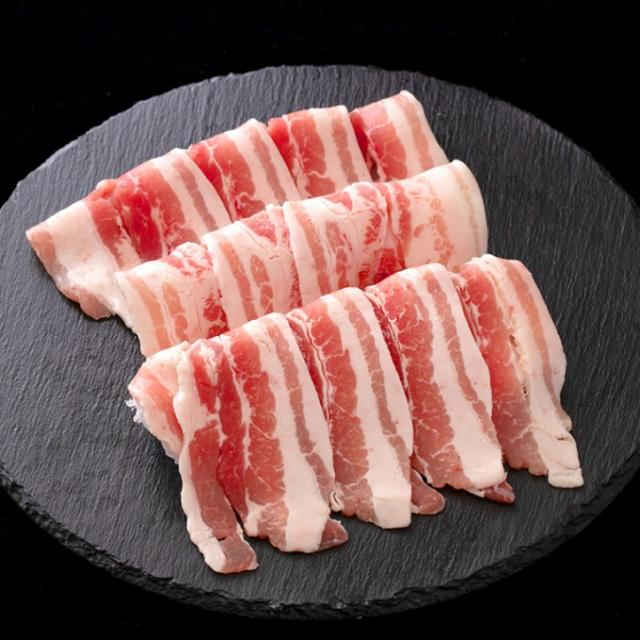NG raw pork,: (170, 307, 353, 579), (282, 283, 451, 532), (368, 258, 519, 518), (451, 246, 584, 496), (18, 181, 145, 329), (280, 176, 407, 309), (97, 143, 235, 264), (111, 238, 241, 363), (202, 199, 311, 334), (377, 158, 487, 276), (189, 114, 303, 225), (264, 101, 377, 205), (349, 89, 460, 184)
